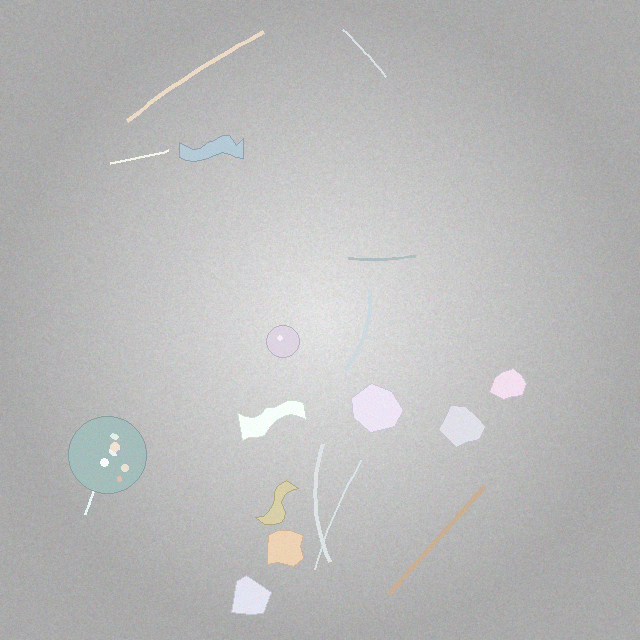fiber: (123, 28, 268, 126), (382, 480, 491, 600), (312, 458, 364, 572), (340, 285, 374, 375), (311, 440, 334, 566), (339, 26, 389, 80), (107, 147, 173, 168), (83, 466, 104, 517), (345, 253, 419, 263)
film: (237, 401, 307, 440), (256, 480, 298, 524), (179, 135, 243, 162)
foam: (69, 416, 146, 494)
fragment: (352, 384, 404, 432), (439, 405, 485, 447), (231, 575, 271, 615), (267, 531, 304, 566), (490, 368, 527, 399)
pellet: (266, 325, 299, 358)
